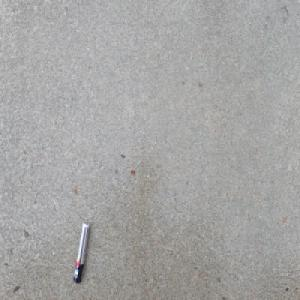Battery: (72, 218, 90, 284)
